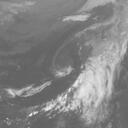cyclone: (75, 58, 115, 111)
